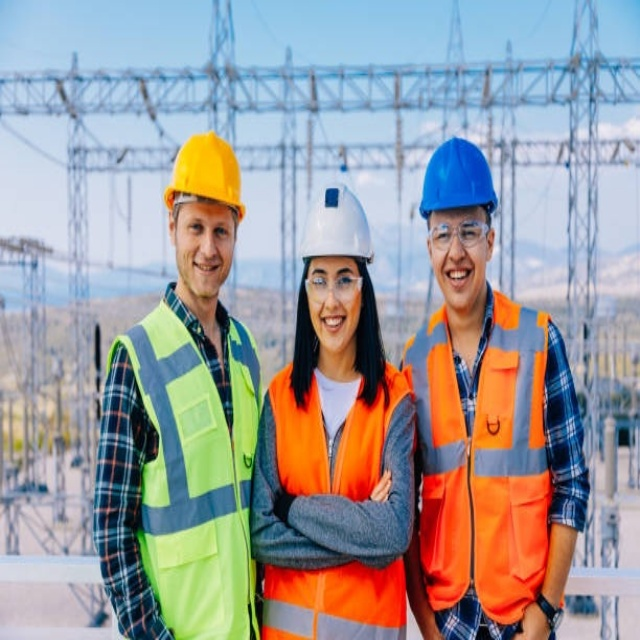Gafas: (428, 218, 494, 253), (303, 271, 364, 303)
Sin_gafas: (184, 213, 233, 248)
Sin_mascara: (439, 262, 476, 298), (317, 309, 351, 340), (187, 256, 220, 287)
